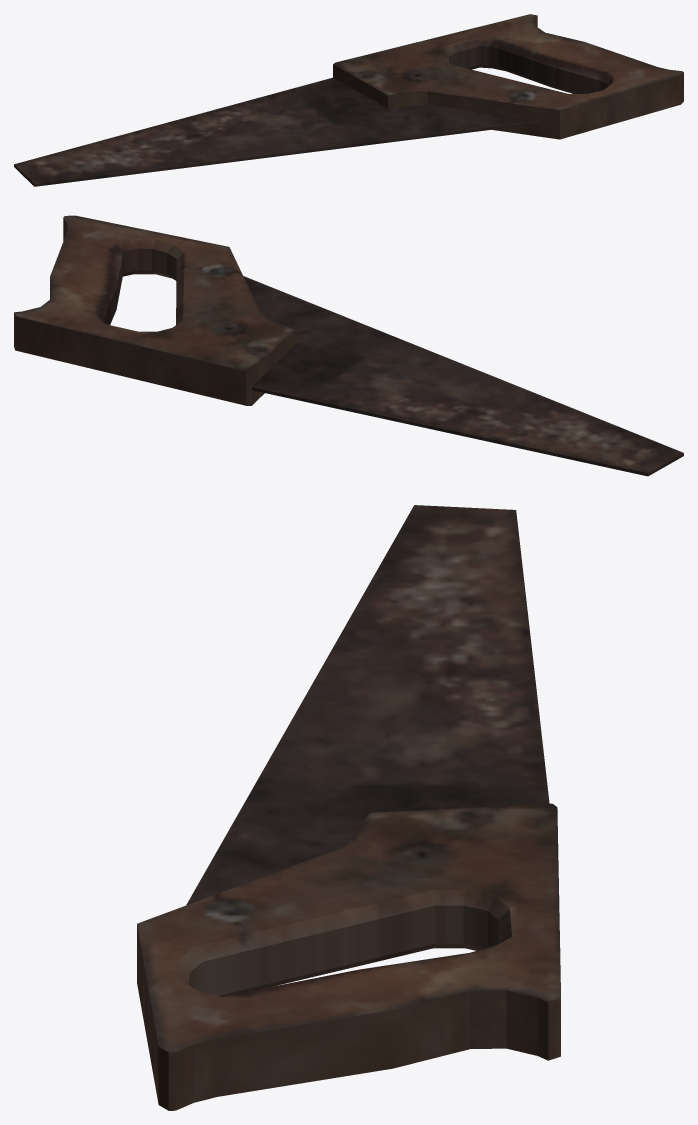
Rendered from hand_saw_1.obj.
3 views of the same model, one above another, from view 1: azimuth 30°, elevation 25°; view 2: azimuth 150°, elevation 25°; view 3: azimuth 270°, elevation 25° (orthographic). The views are drawn at different scales.
Parts seen in each view (by area): view 1: hand_saw_1; view 2: hand_saw_1; view 3: hand_saw_1.
Part boxes in pixels (bbox=[...]): hand_saw_1: bbox=[14, 14, 683, 186]; hand_saw_1: bbox=[14, 215, 683, 476]; hand_saw_1: bbox=[137, 505, 560, 1110].
Size of the model in its own units: 0.6964 by 0.033 by 0.2175.
